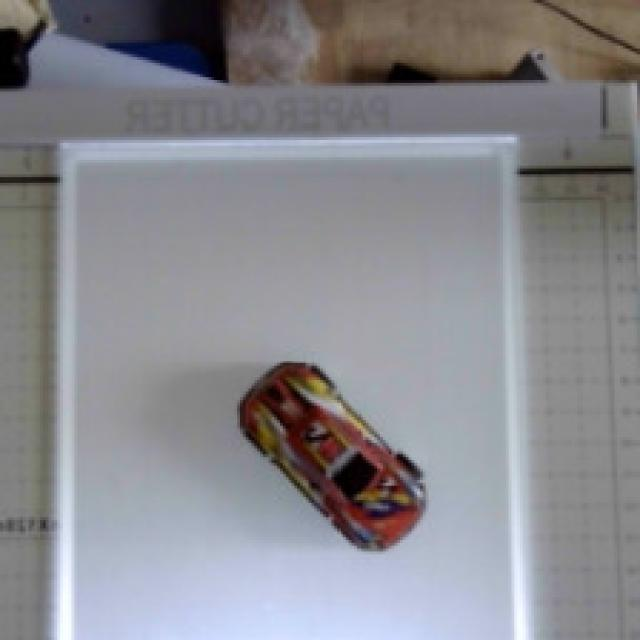Red Car: (187, 328, 492, 610)
